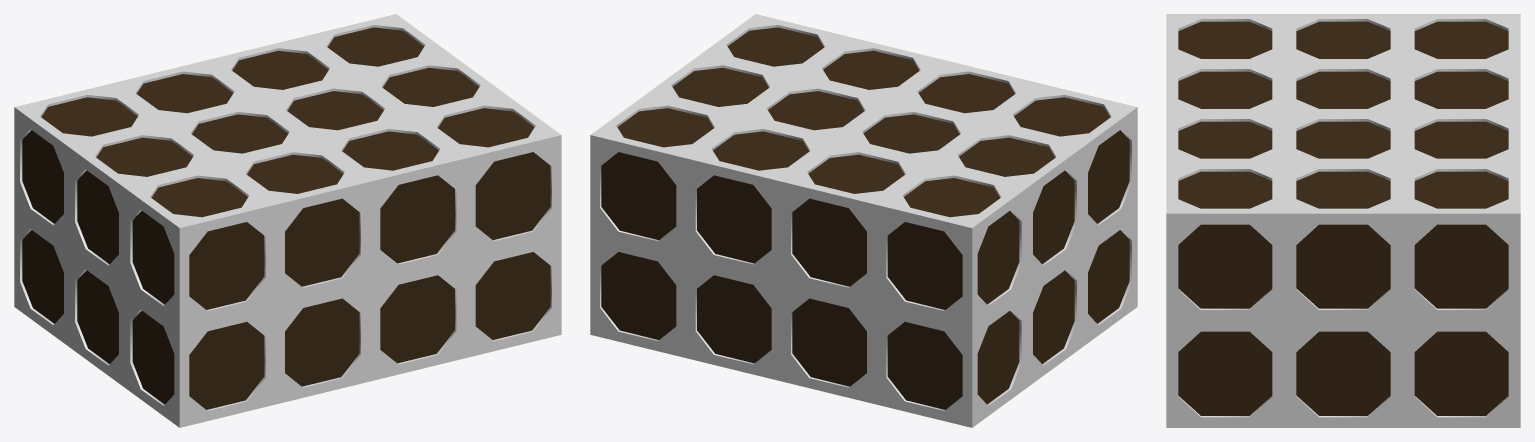
File: RAUM_01_FBX.fbx
3 renders of one model, left to right at view 1: azimuth 30°, elevation 25°; view 2: azimuth 150°, elevation 25°; view 3: azimuth 270°, elevation 25°, orthographic. The views are drawn at different scales.
Parts seen in each view (by area): view 1: Würfel_1, Würfel_25, Würfel_50, Würfel_36, Würfel_39, Würfel_38, Würfel_51, Würfel_37, Würfel_52, Würfel_40, Würfel_26, Würfel_41 (+15 smaller); view 2: Würfel_1, Würfel_29, Würfel_46, Würfel_32, Würfel_43, Würfel_30, Würfel_45, Würfel_31, Würfel_44, Würfel_42, Würfel_28, Würfel_40 (+15 smaller); view 3: Würfel_1, Würfel_33, Würfel_35, Würfel_34, Würfel_48, Würfel_47, Würfel_49, Würfel_15, Würfel_23, Würfel_16, Würfel_17, Würfel_18 (+7 smaller).
Part boxes in pixels (x1,y1,x2,y2): Würfel_1: [14, 14, 561, 427]; Würfel_25: [189, 322, 264, 409]; Würfel_50: [475, 152, 550, 239]; Würfel_36: [475, 252, 550, 339]; Würfel_39: [189, 222, 264, 309]; Würfel_38: [285, 298, 359, 386]; Würfel_51: [380, 175, 454, 263]; Würfel_37: [380, 275, 454, 363]; Würfel_52: [285, 198, 359, 286]; Würfel_40: [132, 211, 174, 304]; Würfel_26: [132, 311, 174, 404]; Würfel_41: [77, 170, 118, 264]; Würfel_1: [590, 14, 1137, 427]; Würfel_29: [887, 322, 962, 409]; Würfel_46: [601, 152, 676, 239]; Würfel_32: [601, 252, 676, 339]; Würfel_43: [887, 222, 962, 309]; Würfel_30: [792, 298, 866, 386]; Würfel_45: [697, 175, 771, 263]; Würfel_31: [697, 275, 771, 363]; Würfel_44: [792, 198, 866, 286]; Würfel_42: [977, 211, 1019, 304]; Würfel_28: [977, 311, 1019, 404]; Würfel_40: [1088, 130, 1129, 223]; Würfel_1: [1166, 14, 1520, 427]; Würfel_33: [1414, 331, 1508, 415]; Würfel_35: [1178, 331, 1272, 415]; Würfel_34: [1296, 331, 1390, 415]; Würfel_48: [1296, 224, 1390, 308]; Würfel_47: [1414, 224, 1508, 308]; Würfel_49: [1178, 224, 1272, 308]; Würfel_15: [1178, 121, 1272, 158]; Würfel_23: [1414, 121, 1508, 158]; Würfel_16: [1178, 171, 1272, 208]; Würfel_17: [1296, 21, 1390, 58]; Würfel_18: [1296, 71, 1390, 108].
Size of the model in its own units: 800 by 400 by 600.
